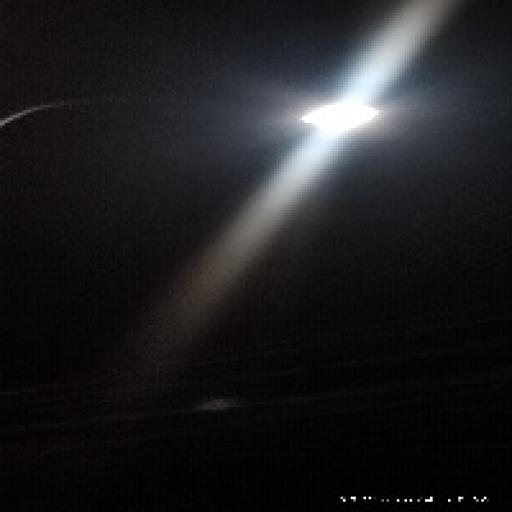Working: (296, 87, 379, 143)
